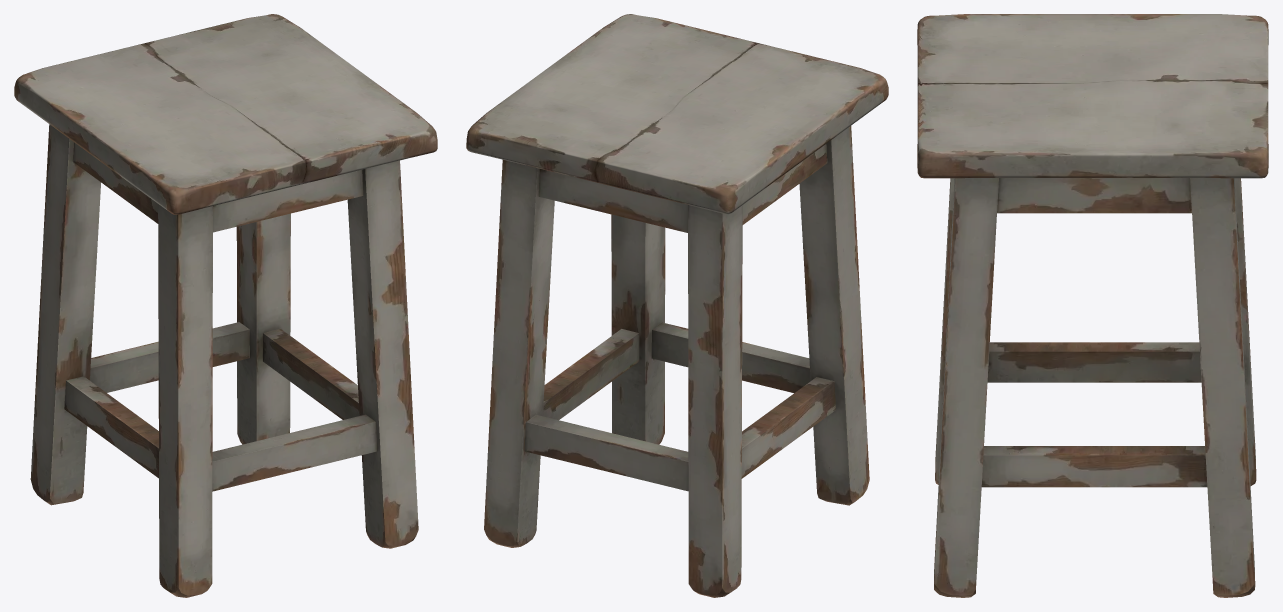
File: painted_wooden_stool.glb
3 renders of one model, left to right at view 1: azimuth 30°, elevation 25°; view 2: azimuth 150°, elevation 25°; view 3: azimuth 270°, elevation 25°, orthographic. The views are drawn at different scales.
Visible parts, largest first — view 1: painted_wooden_stool; view 2: painted_wooden_stool; view 3: painted_wooden_stool.
Boxes of the visible parts, <box> form: painted_wooden_stool: <box>14,14,437,597</box>; painted_wooden_stool: <box>466,14,888,597</box>; painted_wooden_stool: <box>917,14,1268,597</box>.
Size of the model in its own units: 0.3848 by 0.5789 by 0.4061.
Materials: 1 (1 with a texture image).
